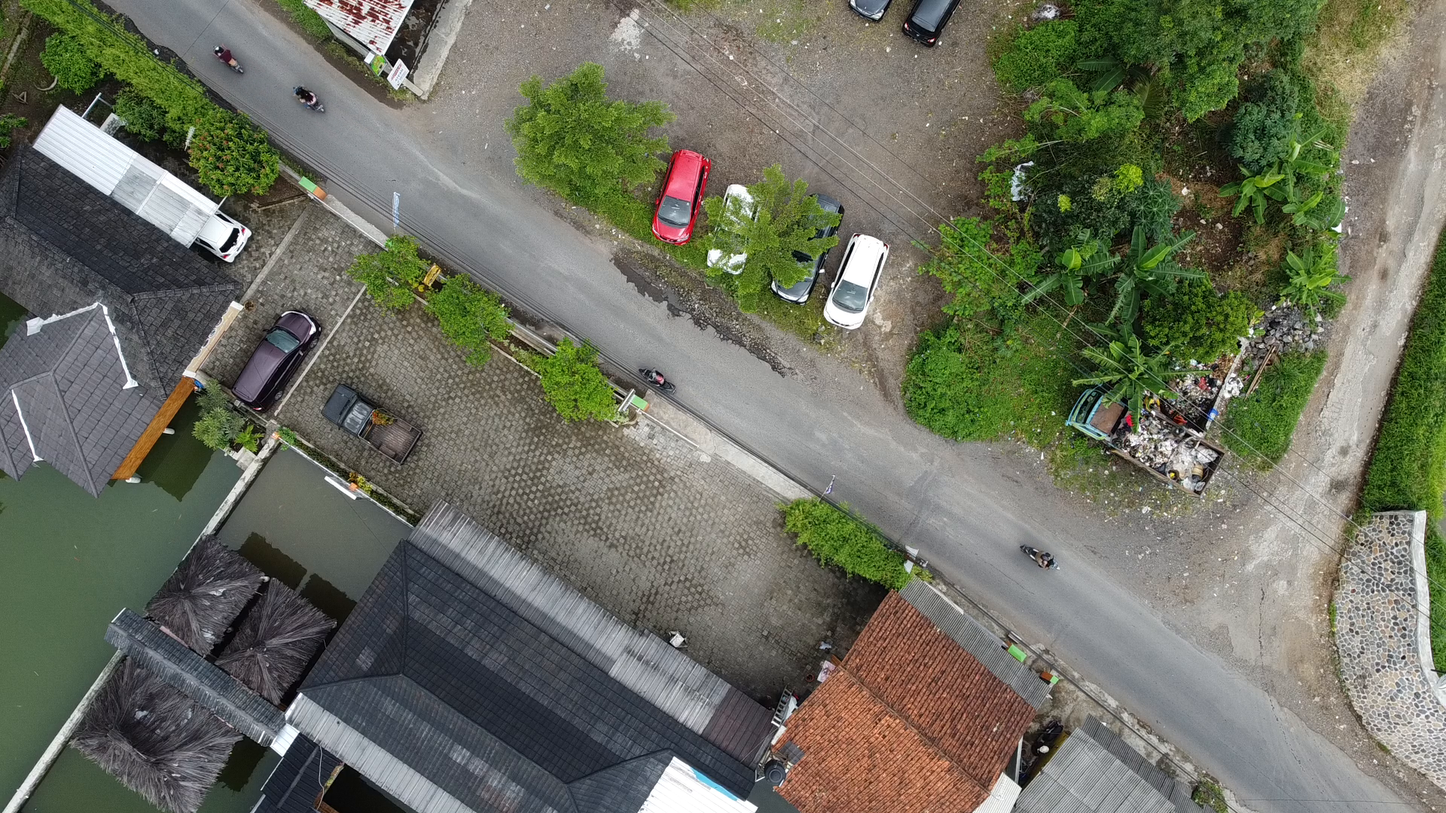mobil: (763, 172, 847, 315), (224, 306, 328, 409), (819, 221, 903, 341), (318, 380, 429, 467), (650, 143, 718, 244), (709, 177, 764, 283), (191, 210, 261, 269), (897, 3, 965, 63)
